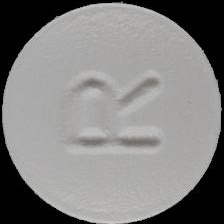55111-625: (0, 0, 224, 224)
